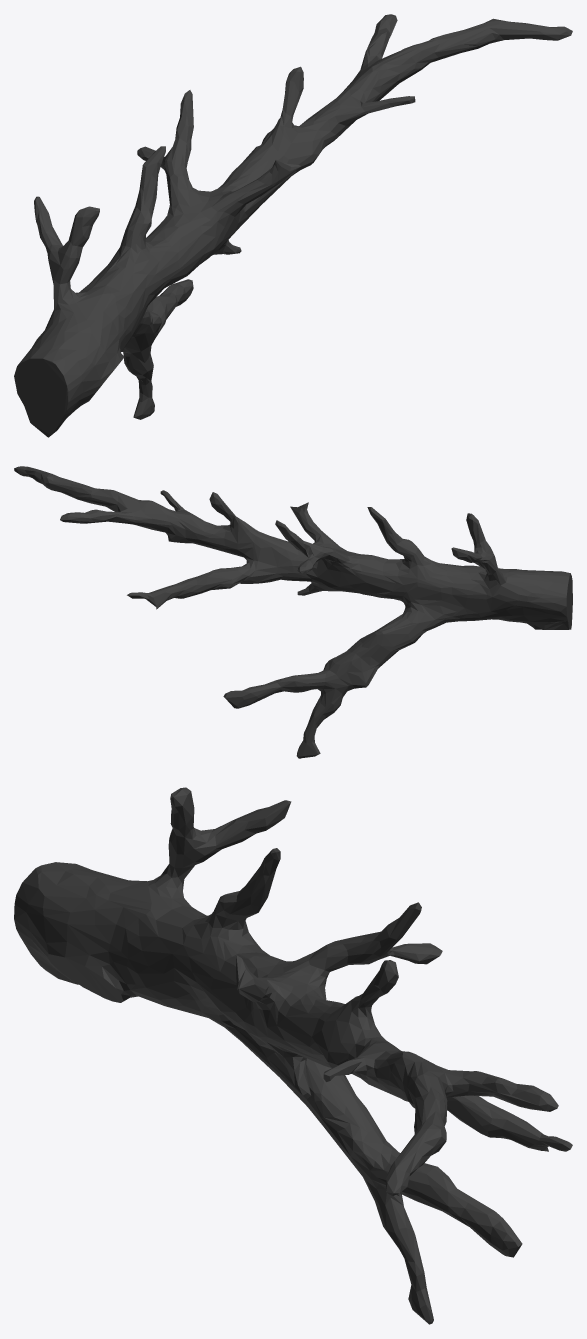
Rendered from Right_caudal_lobe_bronchus_1.glb.
The picture shows the model from 3 angles, top to bottom: view 1: azimuth 30°, elevation 25°; view 2: azimuth 150°, elevation 25°; view 3: azimuth 270°, elevation 25°; orthographic projection. The views are drawn at different scales.
Visible parts, largest first — view 1: Right_caudal_lobe_bronchus_1; view 2: Right_caudal_lobe_bronchus_1; view 3: Right_caudal_lobe_bronchus_1.
Boxes of the visible parts, bbox=[...] form: Right_caudal_lobe_bronchus_1: bbox=[14, 14, 572, 437]; Right_caudal_lobe_bronchus_1: bbox=[14, 466, 572, 758]; Right_caudal_lobe_bronchus_1: bbox=[14, 787, 572, 1324].
Size of the model in its own units: 5.58 by 2.63 by 2.92.
1 material, 1 textured.
